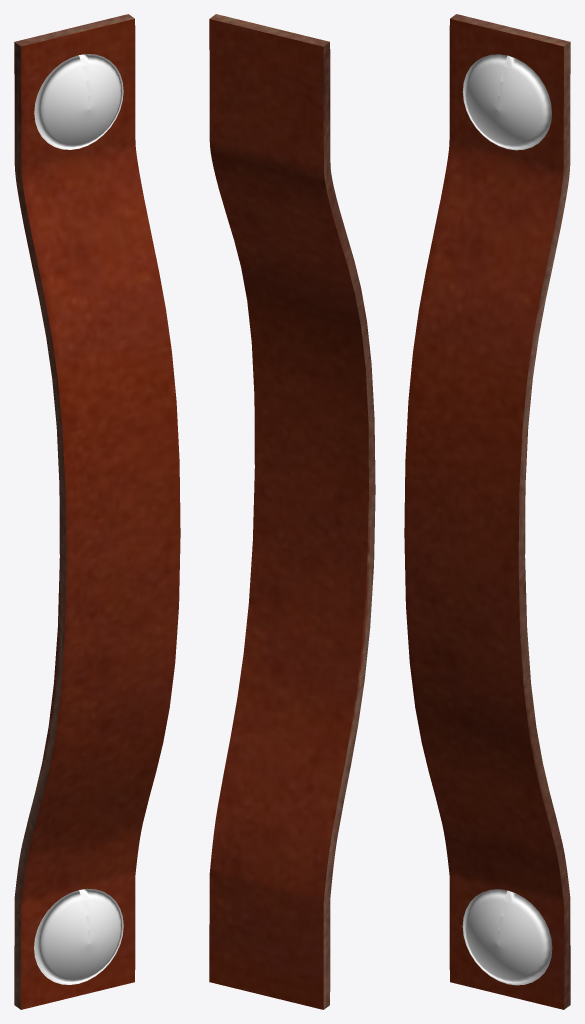
The picture shows the model from 3 angles, left to right: view 1: azimuth 30°, elevation 25°; view 2: azimuth 150°, elevation 25°; view 3: azimuth 330°, elevation 25°; orthographic projection.
Parts seen in each view (by area): view 1: leather, chrome1, chrome2; view 2: leather; view 3: leather, chrome1, chrome2.
Part boxes in pixels (<box>): leather: <box>14,14,180,1009</box>; chrome1: <box>34,888,123,984</box>; chrome2: <box>34,54,123,149</box>; leather: <box>209,14,375,1009</box>; leather: <box>404,14,570,1009</box>; chrome1: <box>462,889,552,985</box>; chrome2: <box>462,54,551,150</box>.
Size of the model in its own units: 0.02 by 0.1613 by 0.0158.
2 materials, 1 textured.
